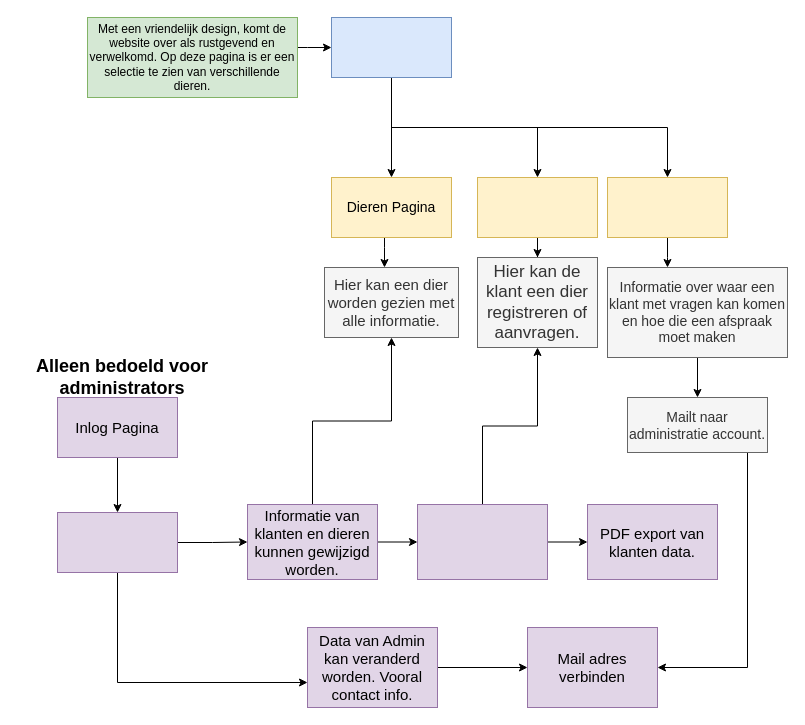
This 805x725 diagram has some shape labels left out. Each missing label, with the centre of its shape:
Dashboard: the point at 117,542
Klanten en dieren kunnen worden toegevoegd.: the point at 482,542
Over/Contact Informatie voor volwassenen: the point at 667,207
Registratie: the point at 537,207
StartPagina: the point at 391,47
